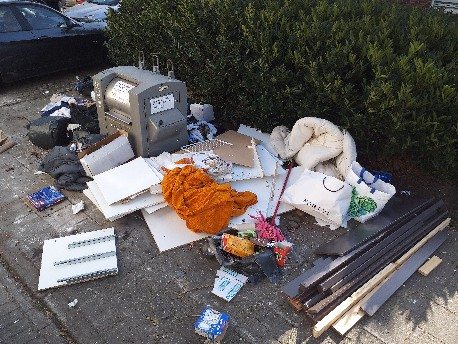Container: (101, 66, 194, 147)
Rest: (327, 198, 440, 313), (223, 128, 306, 198), (79, 159, 186, 213), (261, 176, 390, 214), (179, 106, 247, 176), (293, 123, 376, 180), (157, 166, 233, 220), (59, 228, 115, 294), (232, 229, 280, 284), (38, 134, 129, 160), (35, 173, 76, 217), (31, 114, 82, 146), (57, 78, 92, 106), (196, 311, 228, 341)
